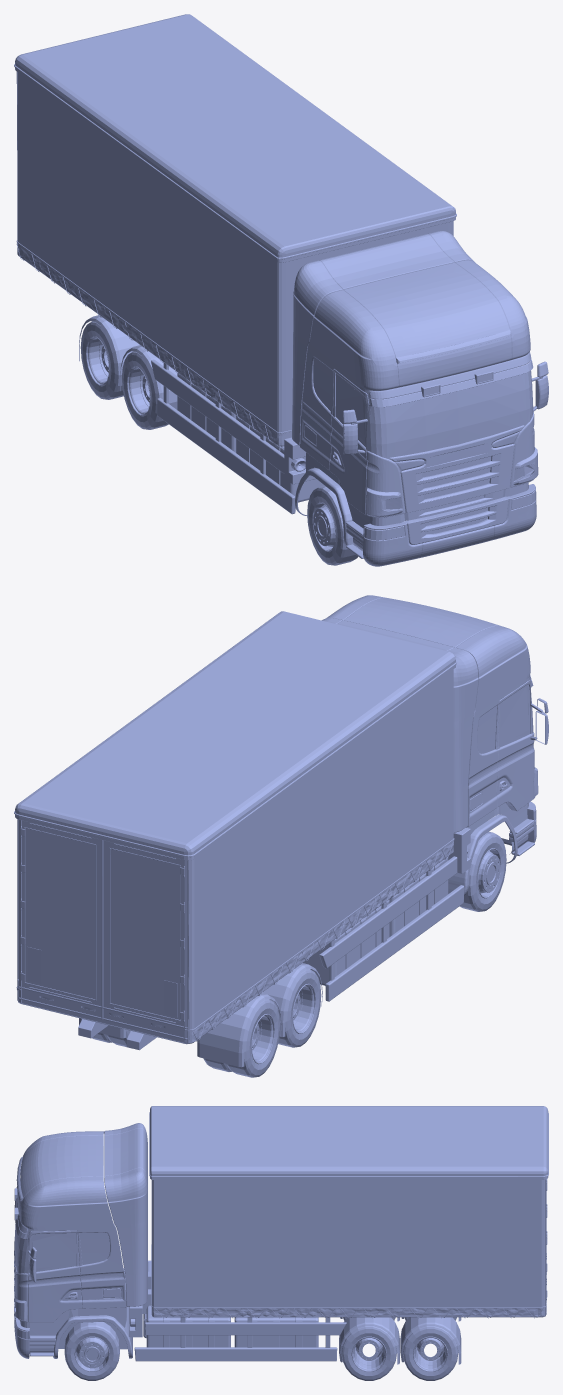
Rendered from small-truck.gltf.
3 views of the same model, one above another, from view 1: azimuth 30°, elevation 25°; view 2: azimuth 150°, elevation 25°; view 3: azimuth 270°, elevation 25° (orthographic). The views are drawn at different scales.
Parts seen in each view (by area): view 1: 大货车.1; view 2: 大货车.1; view 3: 大货车.1.
Part boxes in pixels (x1,y1,x2,y2): 大货车.1: (14, 14, 548, 566); 大货车.1: (14, 595, 548, 1077); 大货车.1: (14, 1106, 548, 1380).
Size of the model in its own units: 97.52 by 131 by 294.
